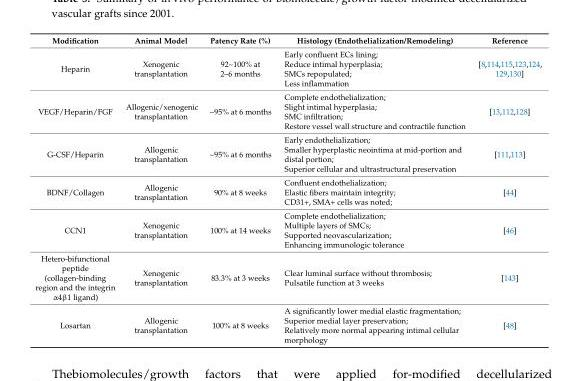table: (34, 35, 541, 343)
table column: (277, 35, 471, 343), (34, 35, 119, 343), (119, 35, 202, 343), (202, 35, 277, 343), (471, 35, 541, 343)
table column header: (34, 35, 541, 46)
table row: (34, 250, 541, 303), (34, 46, 541, 89), (34, 89, 541, 132), (34, 132, 541, 175), (34, 208, 541, 250), (34, 303, 541, 343), (34, 175, 541, 208), (34, 35, 541, 46)
